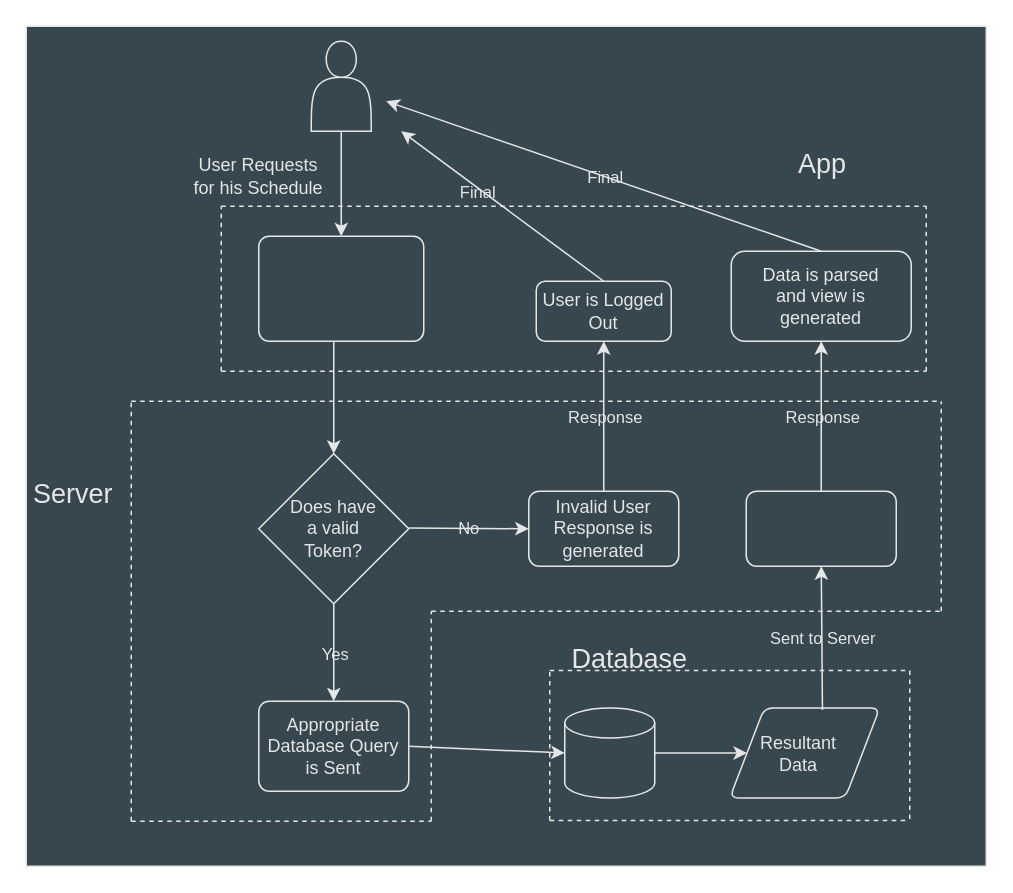
Some shapes in this 1013 by 893 pixel diagram are drawn without their labels. Each missing label, with the box of its shape:
App forwards the requests to the appropriate API endpoint: (257, 235, 424, 341)
DBMS: (563, 706, 655, 798)
Response is Generated from Data: (745, 490, 896, 566)
